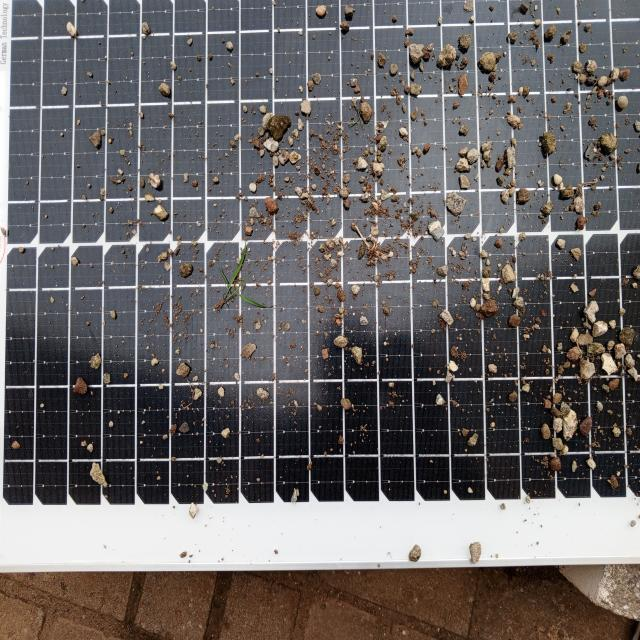Surface Contaminant: (4, 6, 639, 530)
